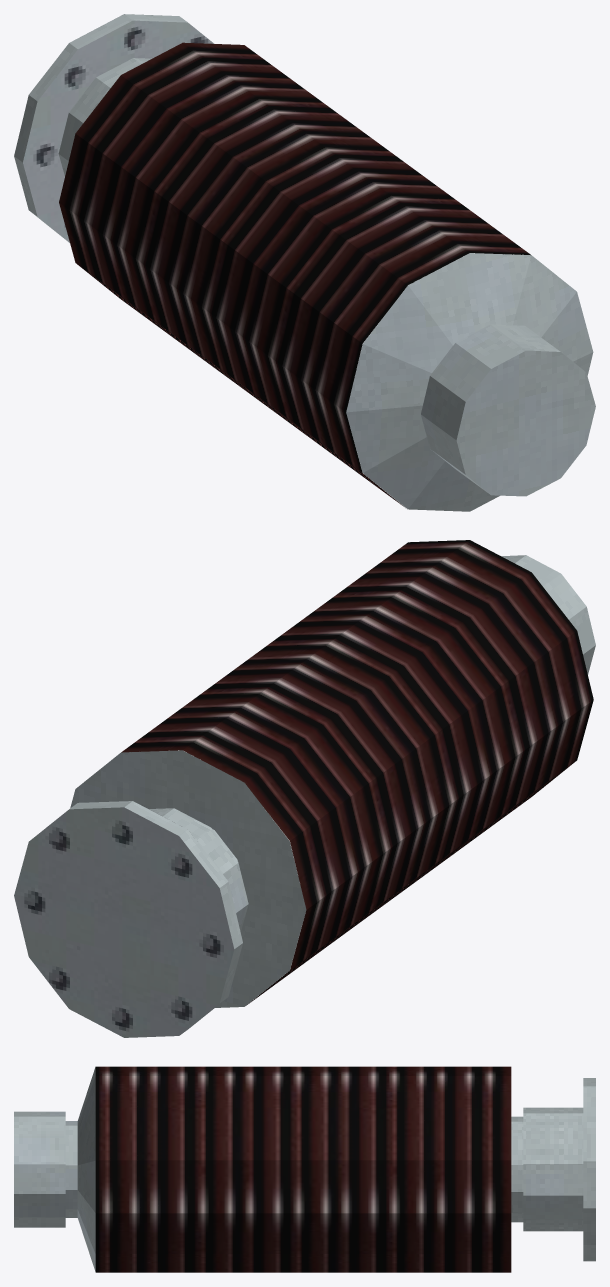
The model's file is jyzz043-geode.glb.
3 renders of one model, top to bottom at view 1: azimuth 30°, elevation 25°; view 2: azimuth 150°, elevation 25°; view 3: azimuth 270°, elevation 25°, orthographic. The views are drawn at different scales.
Visible parts, largest first — view 1: Node; view 2: Node; view 3: Node.
Part boxes in pixels (box(x1,y1,x2,y2)): Node: box(14, 14, 595, 511); Node: box(14, 540, 595, 1037); Node: box(14, 1066, 595, 1272).
Size of the model in its own units: 0.2117 by 0.2117 by 0.5958.
3 materials, 3 textured.
